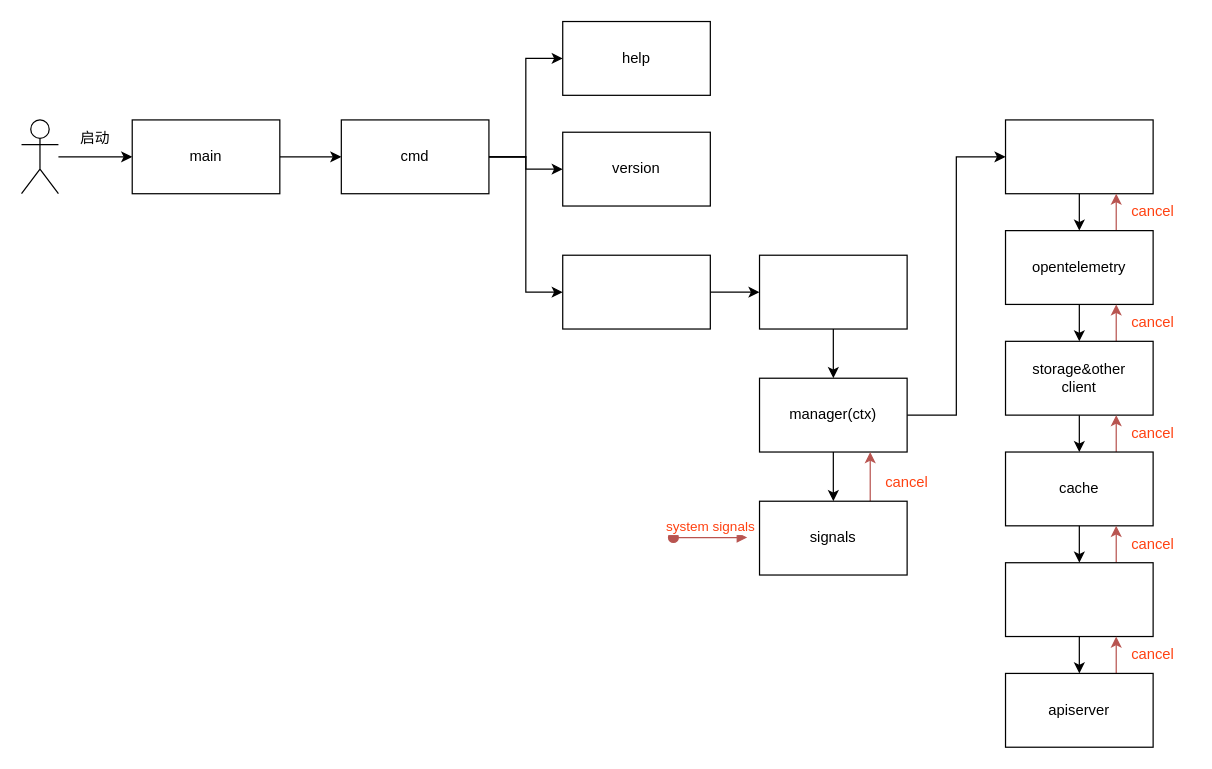
The diagram is 1212 pixels wide and 769 high, and some of its shapes have lost their labels. Here are the shapes that lost their labels. From the top down, the centre of each, then its label:
point (39, 156): Actor
point (1078, 156): logger
point (635, 291): server
point (832, 291): config
point (1078, 599): job
